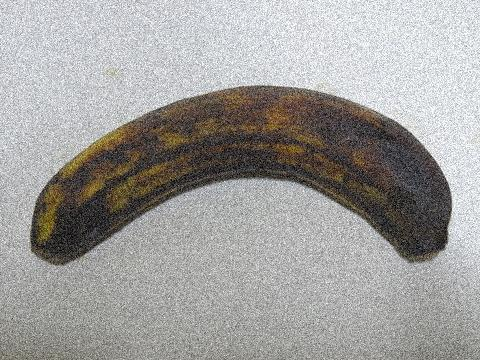overripe: (18, 75, 455, 284)
